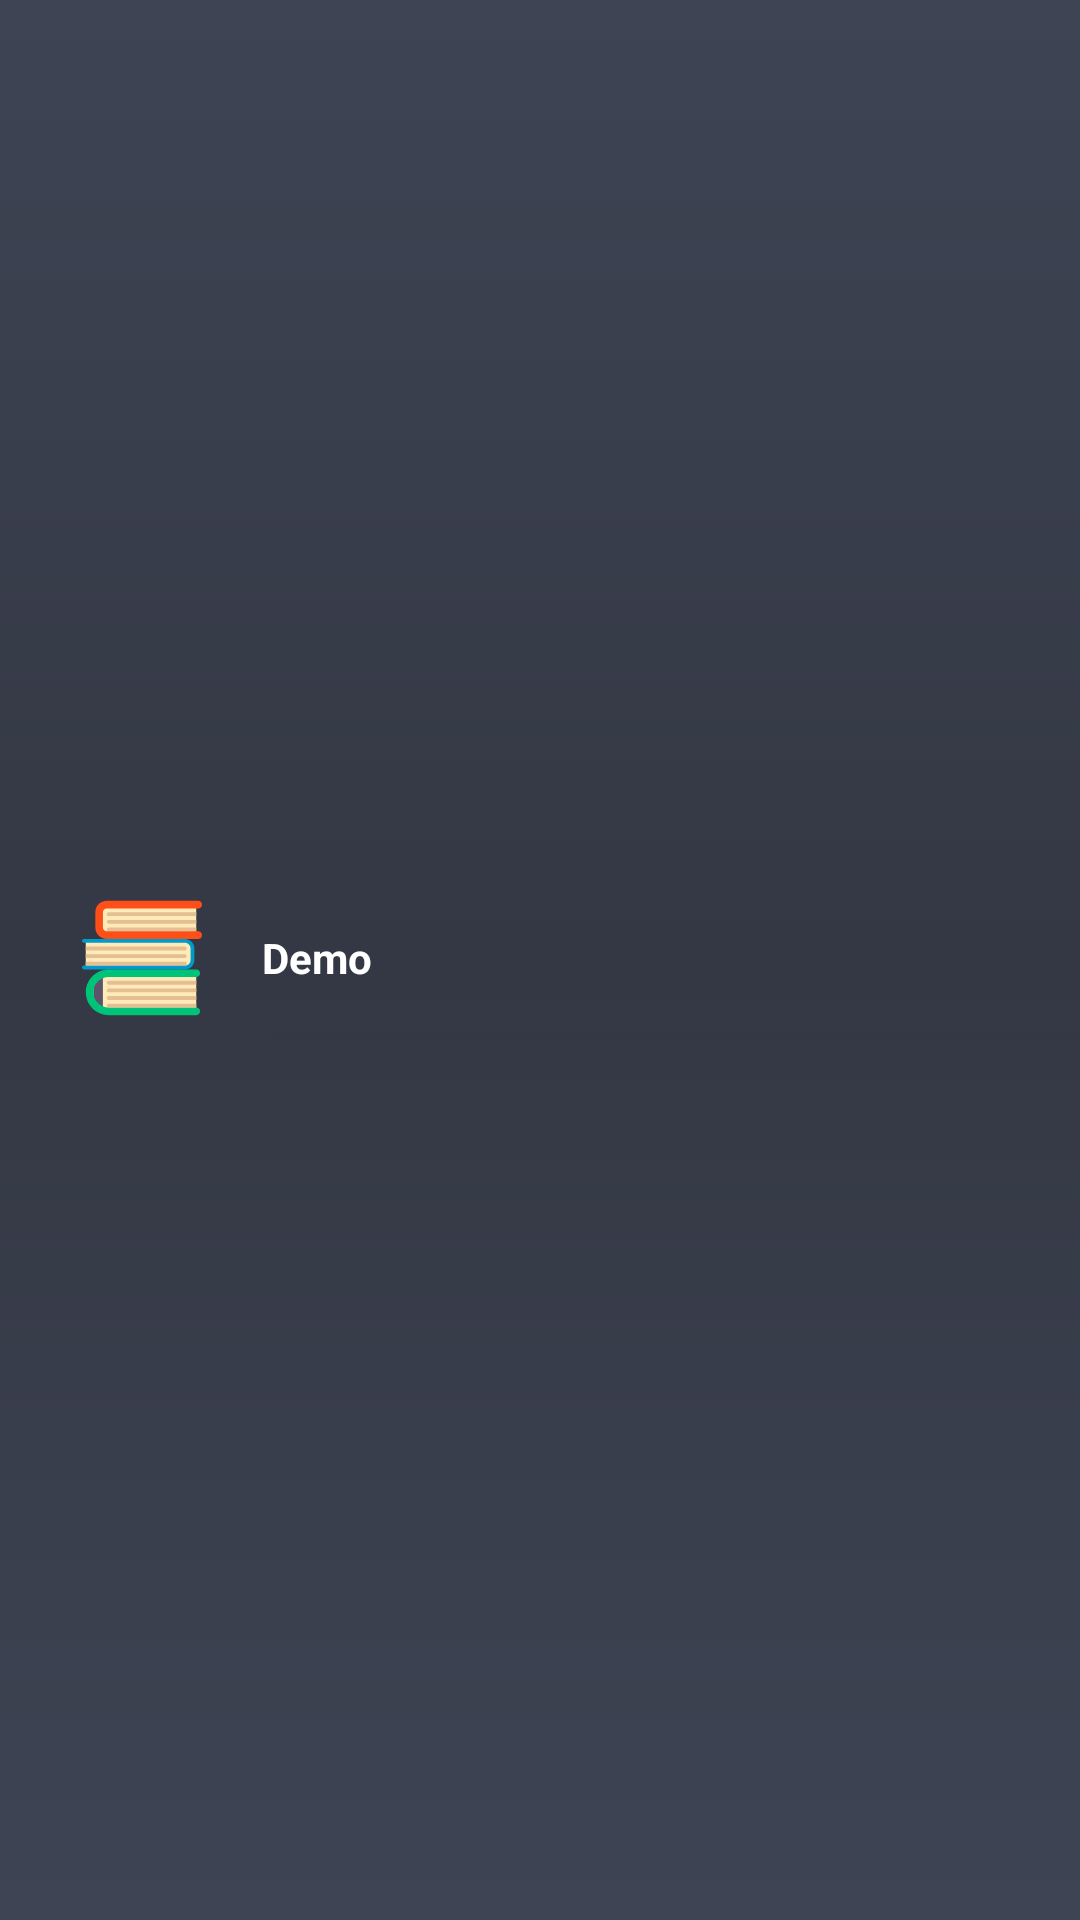

Icons on this 1080px×1920px Android screen, each with the point to tap as [x,y]:
education: [142,958]
